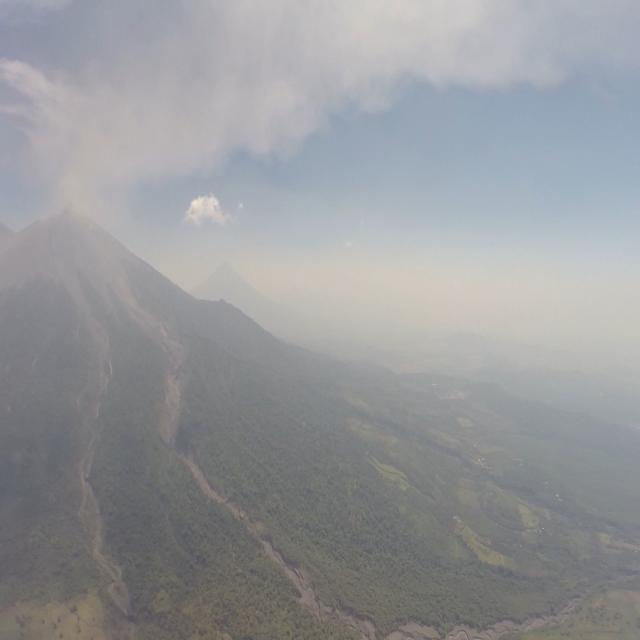Plume: (80, 0, 568, 177)
